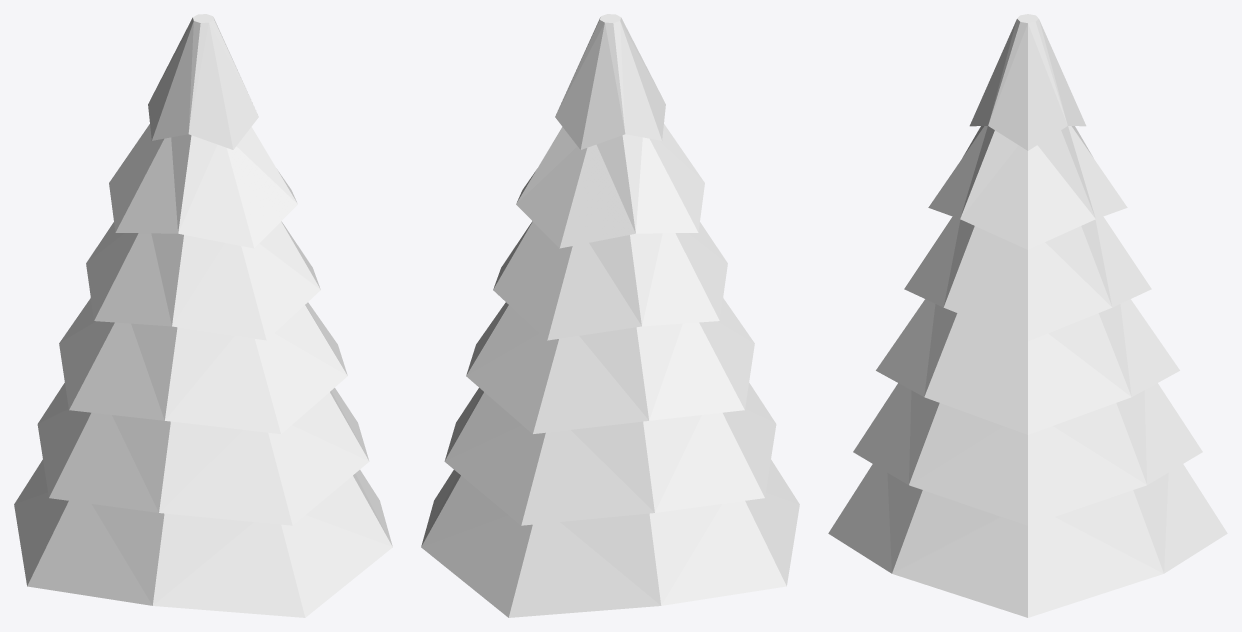
Rendered from firtreeSnow.obj.
3 views of the same model, side by side, from view 1: azimuth 30°, elevation 25°; view 2: azimuth 150°, elevation 25°; view 3: azimuth 270°, elevation 25° (orthographic).
Visible parts, largest first — view 1: Leaves0_LOD0_Leaves.000; view 2: Leaves0_LOD0_Leaves.000; view 3: Leaves0_LOD0_Leaves.000.
Boxes of the visible parts, x1,y1,x2,y2 form: Leaves0_LOD0_Leaves.000: (14, 14, 392, 617); Leaves0_LOD0_Leaves.000: (421, 14, 799, 617); Leaves0_LOD0_Leaves.000: (828, 14, 1227, 617).
Size of the model in its own units: 3.71 by 5.27 by 3.71.
